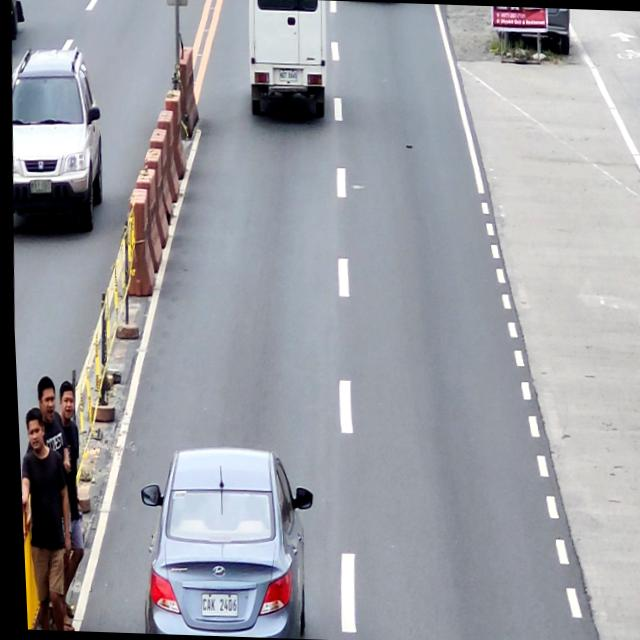Car: (130, 444, 317, 638), (243, 0, 330, 121)
License-Plate: (195, 594, 233, 618), (277, 68, 297, 82)
